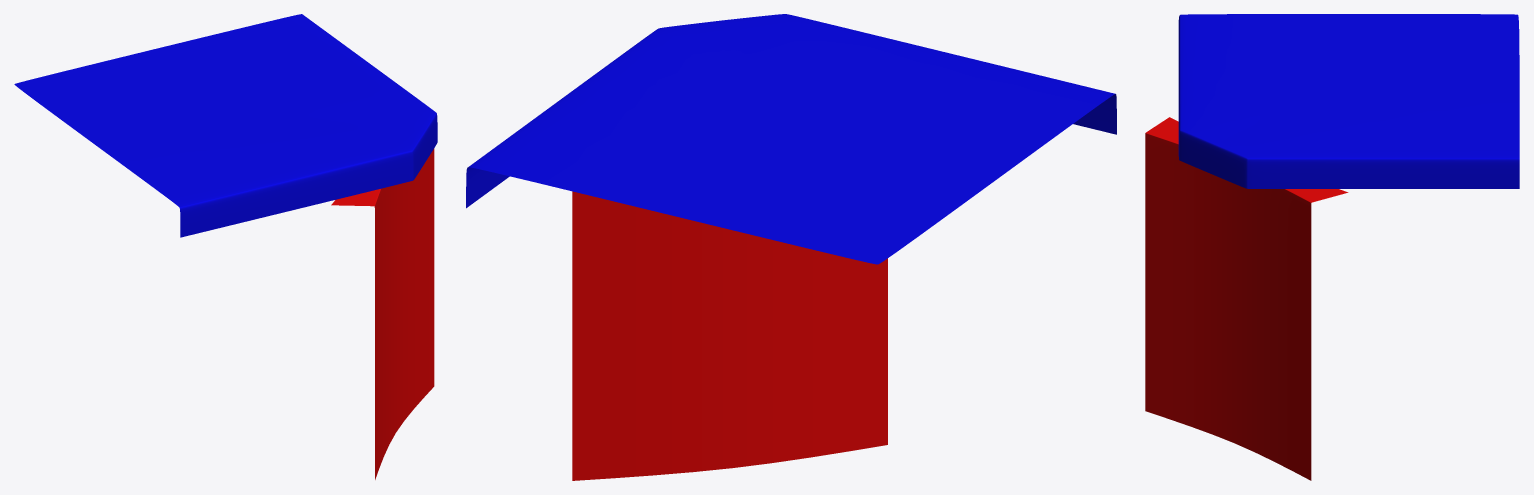
File: Küchentheke_3_ecke_high.fbx
The picture shows the model from 3 angles, left to right: view 1: azimuth 30°, elevation 25°; view 2: azimuth 150°, elevation 25°; view 3: azimuth 270°, elevation 25°; orthographic projection. The views are drawn at different scales.
Parts seen in each view (by area): view 1: Küchentheke_3_ecke_high; view 2: Küchentheke_3_ecke_high; view 3: Küchentheke_3_ecke_high.
Part boxes in pixels (left/top/right/bottom): Küchentheke_3_ecke_high: left=14, top=14, right=437, bottom=479; Küchentheke_3_ecke_high: left=466, top=14, right=1116, bottom=480; Küchentheke_3_ecke_high: left=1145, top=14, right=1519, bottom=480.
Bounding box in the file's own units: 1.1 × 1 × 1.1.
